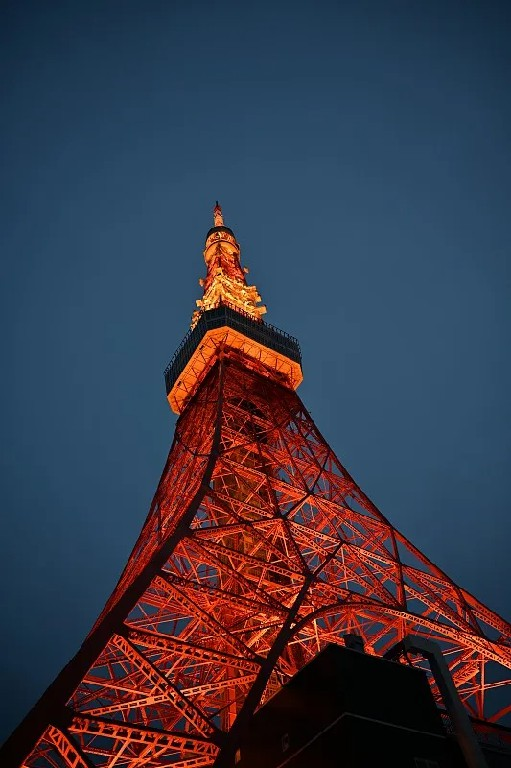Tokyo: (10, 195, 511, 767)
